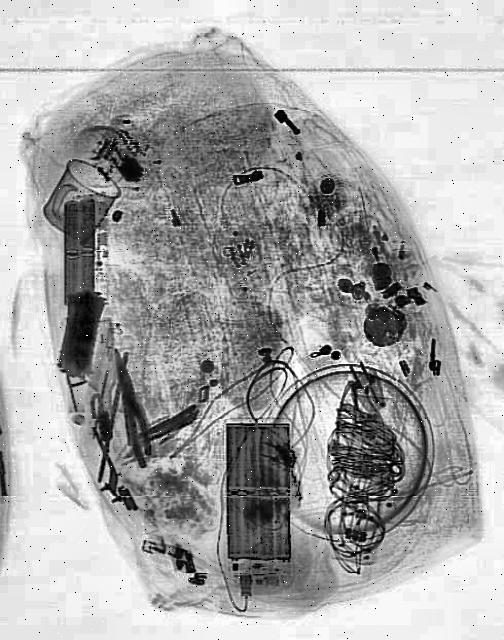Pliers: (103, 342, 158, 470)
